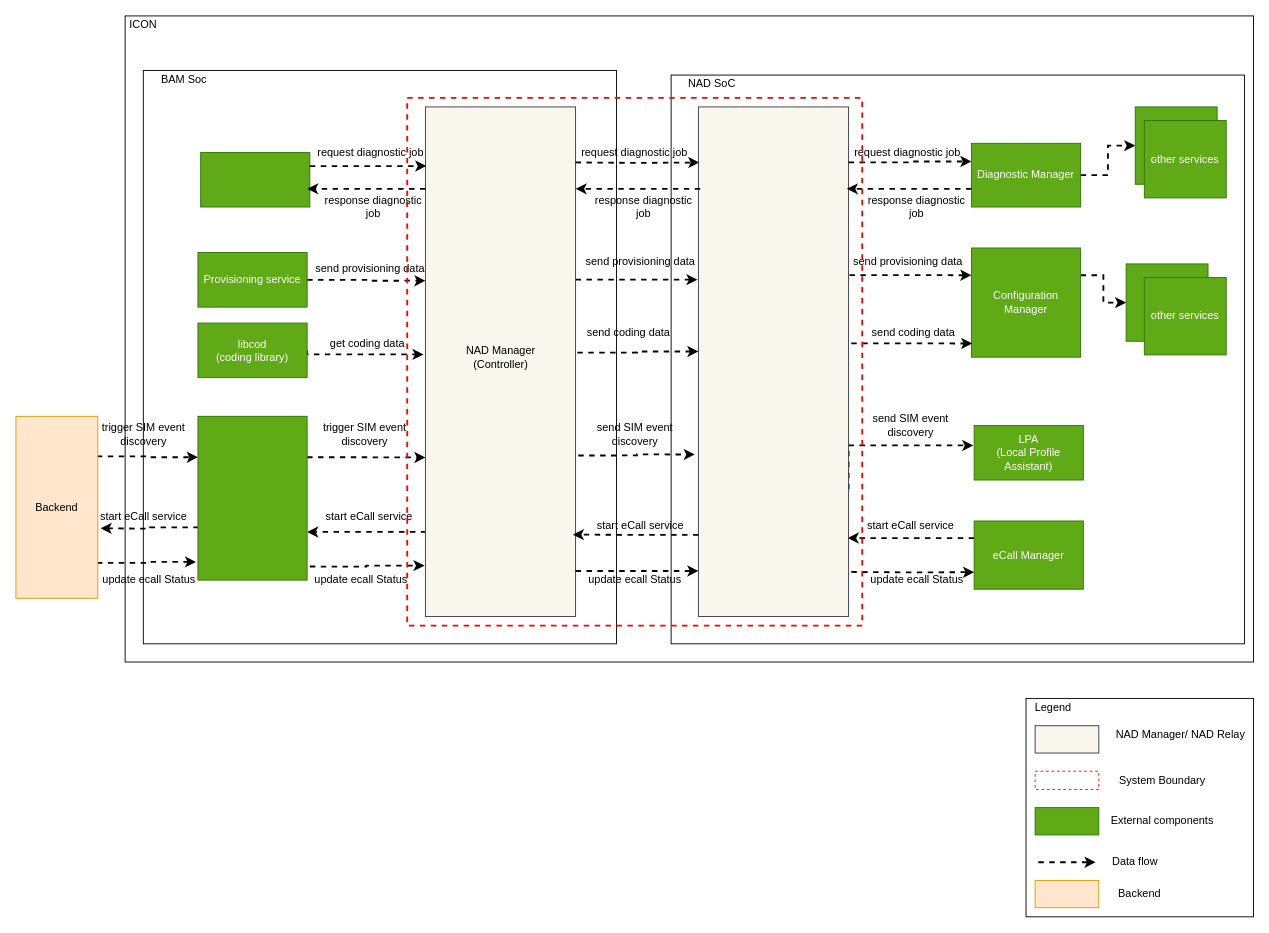
This 1269x933 diagram has some shape labels left out. Here are the shapes that lost their labels. From the top down, the box of each, then its label:
(200, 152, 310, 207): LSMF (Lightweight SysteM Function)
(698, 106, 849, 617): NAD Relay (Forwarder)
(197, 415, 307, 580): MCP gateway
